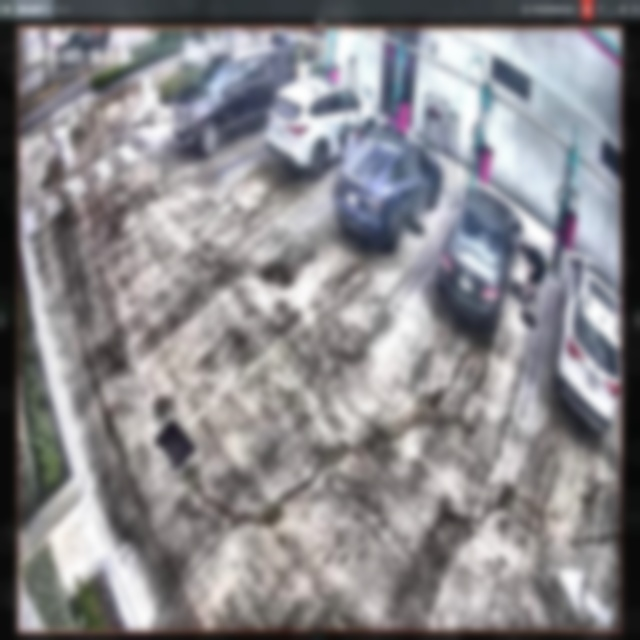Car: (333, 123, 441, 251), (173, 48, 295, 156), (439, 189, 523, 331), (268, 74, 376, 177)
